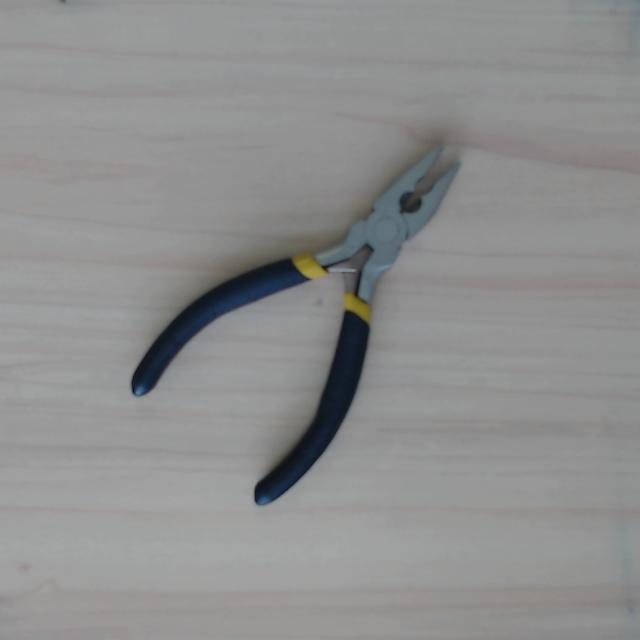Tang-Jepit-Hitam: (117, 94, 533, 517)
